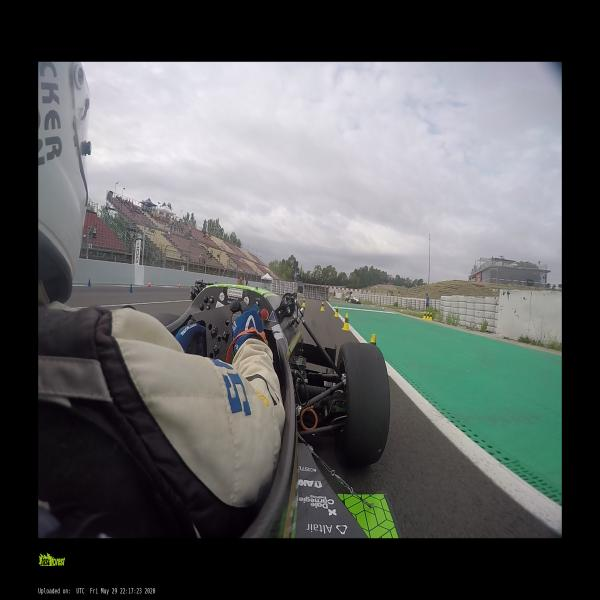blue_cone: (128, 284, 134, 293), (86, 279, 92, 287)
orange_cone: (147, 280, 151, 288), (178, 282, 181, 288)
yellow_cone: (342, 314, 350, 332), (333, 306, 340, 317), (370, 334, 376, 346), (320, 302, 325, 311), (301, 298, 306, 306), (422, 312, 427, 320), (429, 312, 433, 321), (426, 312, 430, 320), (382, 304, 384, 309), (400, 307, 402, 312), (372, 303, 374, 307), (361, 302, 363, 305)
